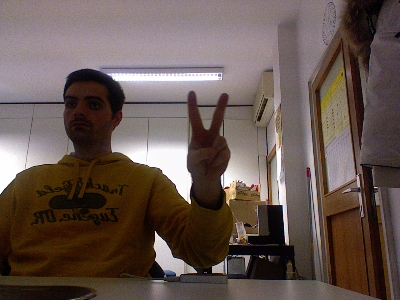剪刀: (185, 90, 230, 182)
